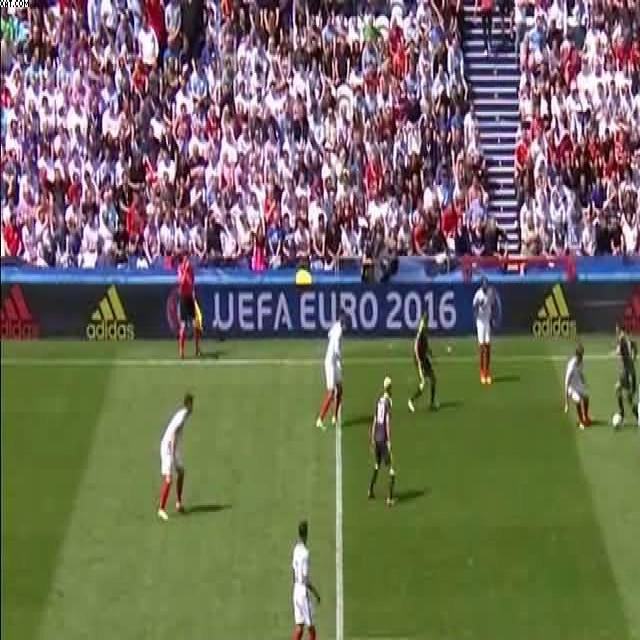ball: (613, 412, 623, 428)
player-white: (156, 393, 194, 520), (286, 517, 325, 640), (368, 377, 398, 509), (316, 308, 347, 428), (408, 313, 438, 413), (612, 325, 640, 423), (177, 252, 201, 357), (563, 343, 591, 431), (474, 279, 496, 386), (638, 365, 640, 489)
